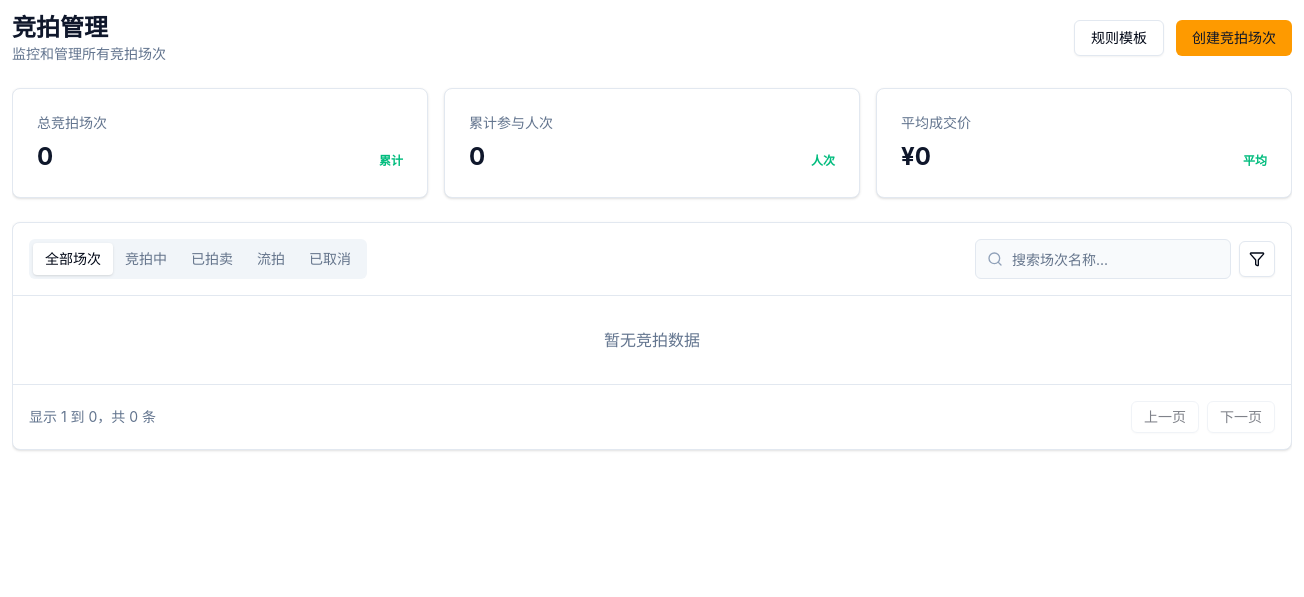
Test: AuctionList create auction with rule template › loads both ongoing and delayed auctions for active tab
The width and height of the screenshot is (1304, 597).
Click the tab "竞拍中". click: (146, 259)
box: [113,243,179,275]
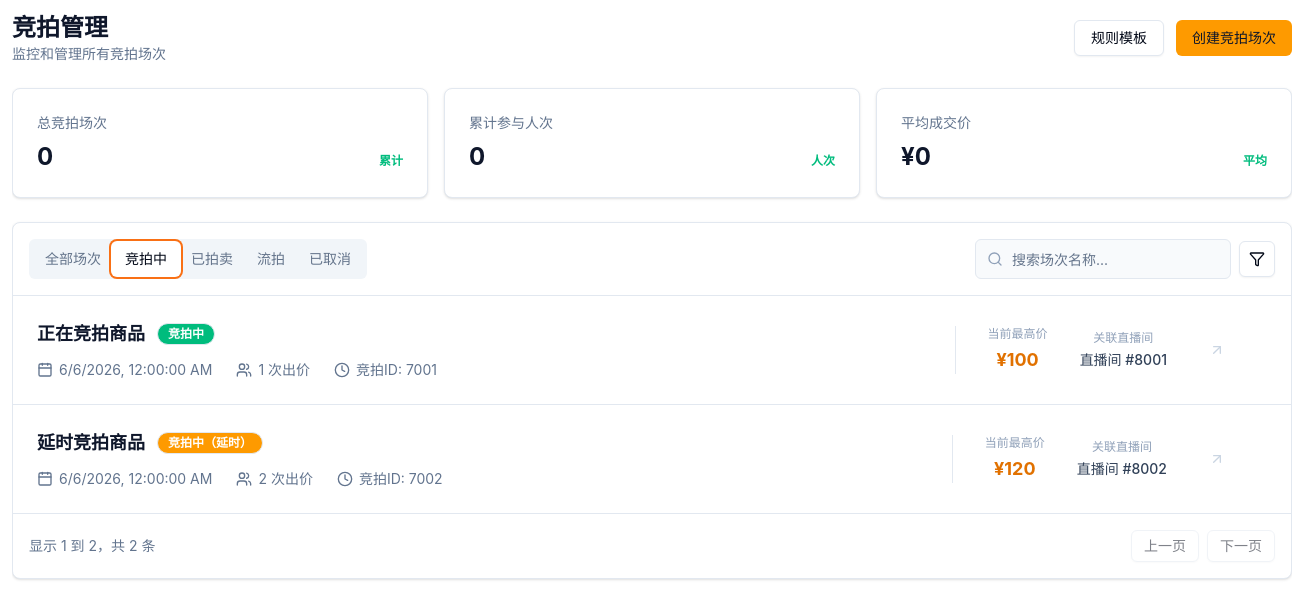
Expected: the heading "正在竞拍商品" is shown, [37,320,145,348]
Expected: the heading "延时竞拍商品" is shown, [37,429,145,457]
